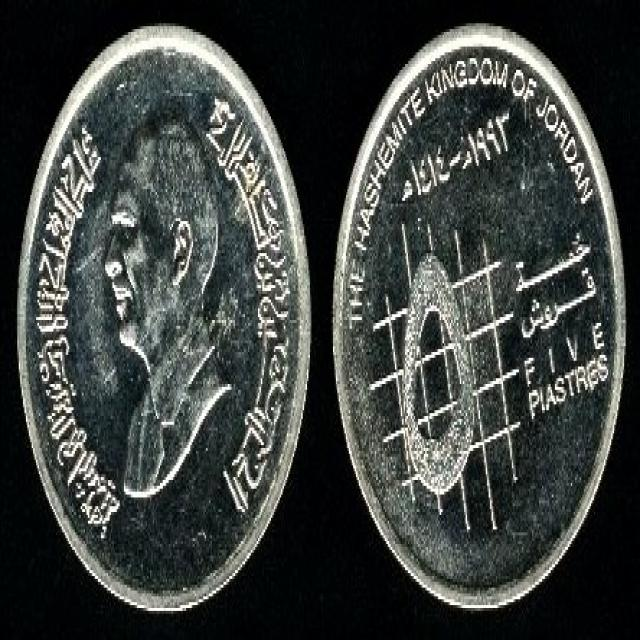5-coins: (16, 21, 312, 616), (332, 20, 628, 610)
